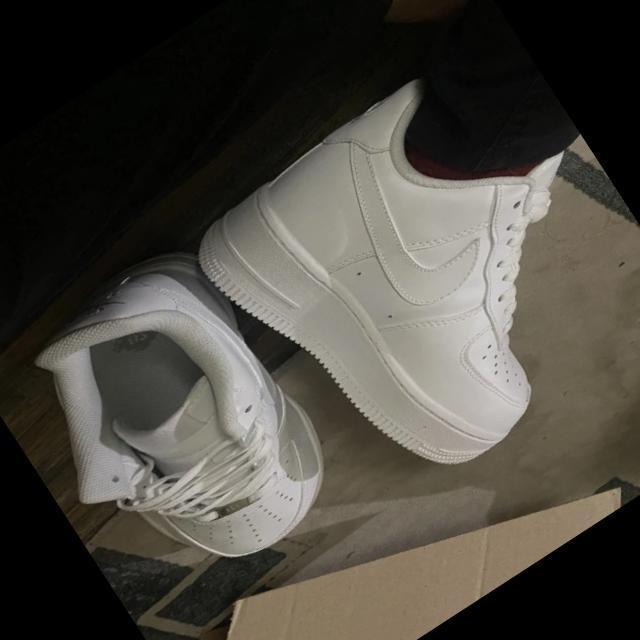nike original air force: (177, 18, 640, 526), (0, 217, 374, 621)
